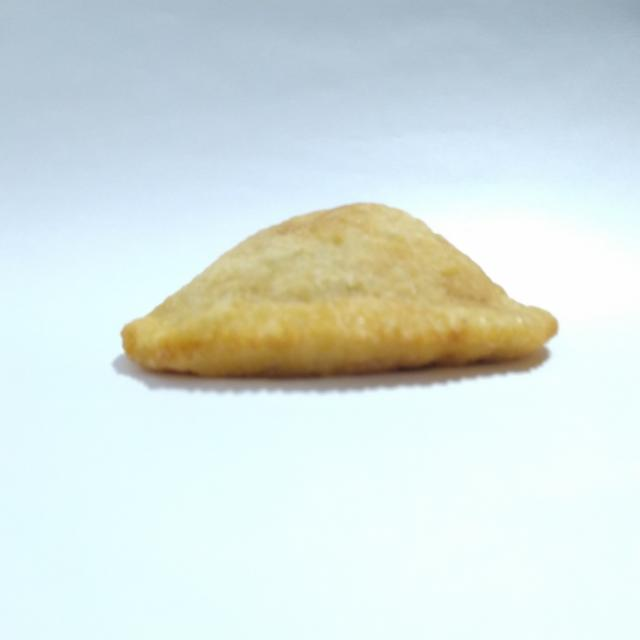Food: (112, 188, 565, 405)
